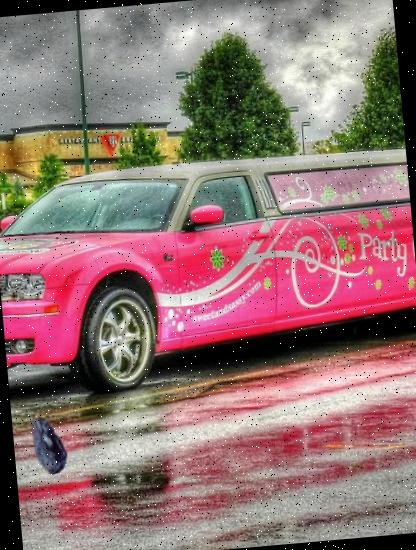Dates: (16, 412, 82, 478)
